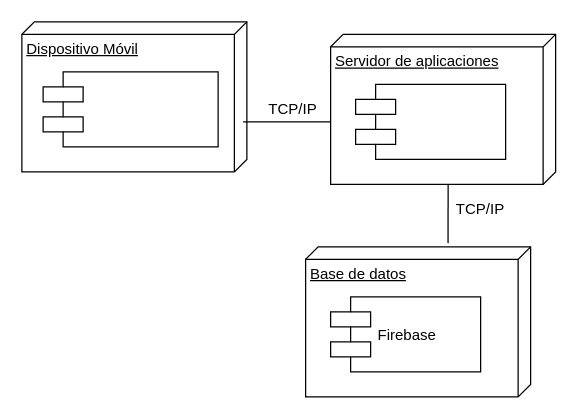
Image size: 578x419. Some labels were removed from this diagram. Each missing label, with the centre of its shape:
"Aplicación Android" goes at [130,109].
"Google" goes at [430,121].
